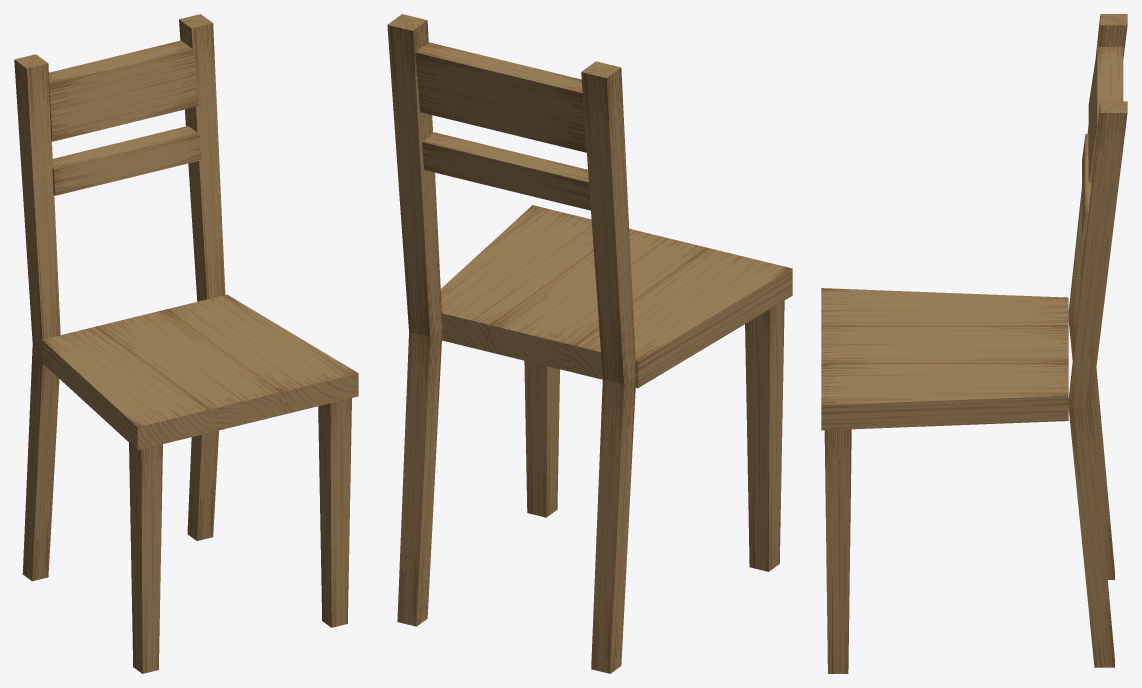
The model's file is Chair.fbx.
3 views of the same model, side by side, from view 1: azimuth 30°, elevation 25°; view 2: azimuth 150°, elevation 25°; view 3: azimuth 270°, elevation 25° (orthographic). The views are drawn at different scales.
Parts seen in each view (by area): view 1: Chair; view 2: Chair; view 3: Chair.
Boxes of the visible parts, <box> form: Chair: <box>14,14,358,673</box>; Chair: <box>387,14,792,673</box>; Chair: <box>821,14,1127,673</box>.
Bounding box in the file's own units: 40 × 88.44 × 44.12.
